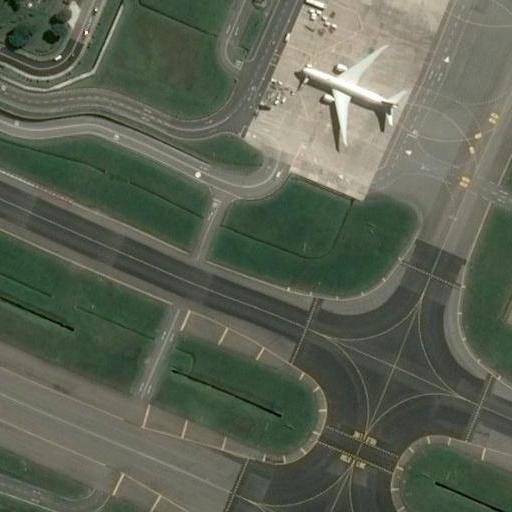Aircraft: (284, 43, 408, 147)
